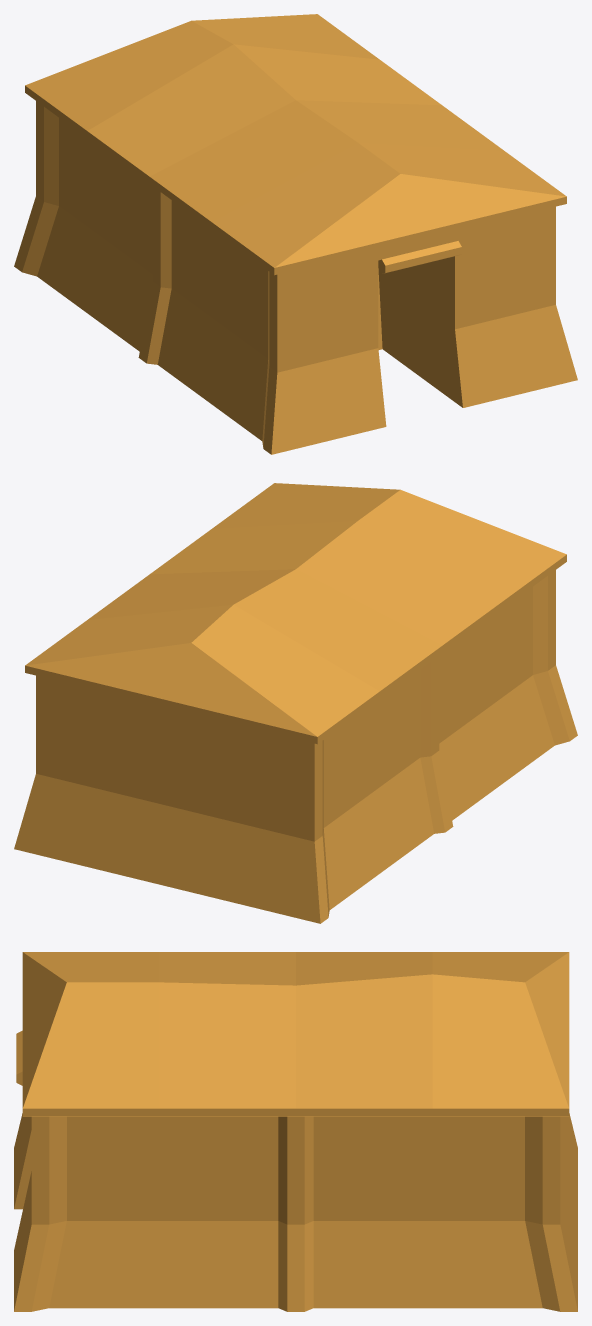
File: military-tent.fbx
The picture shows the model from 3 angles, top to bottom: view 1: azimuth 30°, elevation 25°; view 2: azimuth 150°, elevation 25°; view 3: azimuth 270°, elevation 25°; orthographic projection. The views are drawn at different scales.
Parts seen in each view (by area): view 1: military-tent; view 2: military-tent; view 3: military-tent.
Boxes of the visible parts, x1,y1,x2,y2 form: military-tent: (14,14,577,454); military-tent: (14,483,577,923); military-tent: (14,952,577,1311).
Size of the model in its own units: 4.4 by 3.2 by 6.4.
